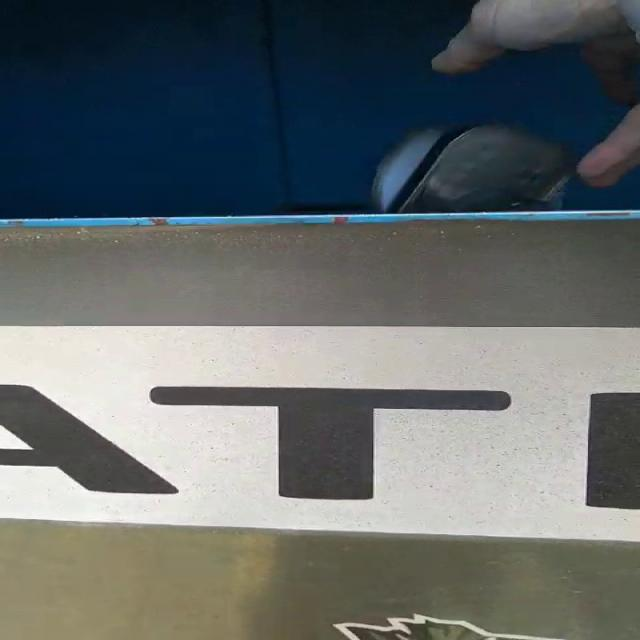bin: (1, 0, 628, 217), (1, 521, 640, 640)
metal: (372, 124, 575, 212)
